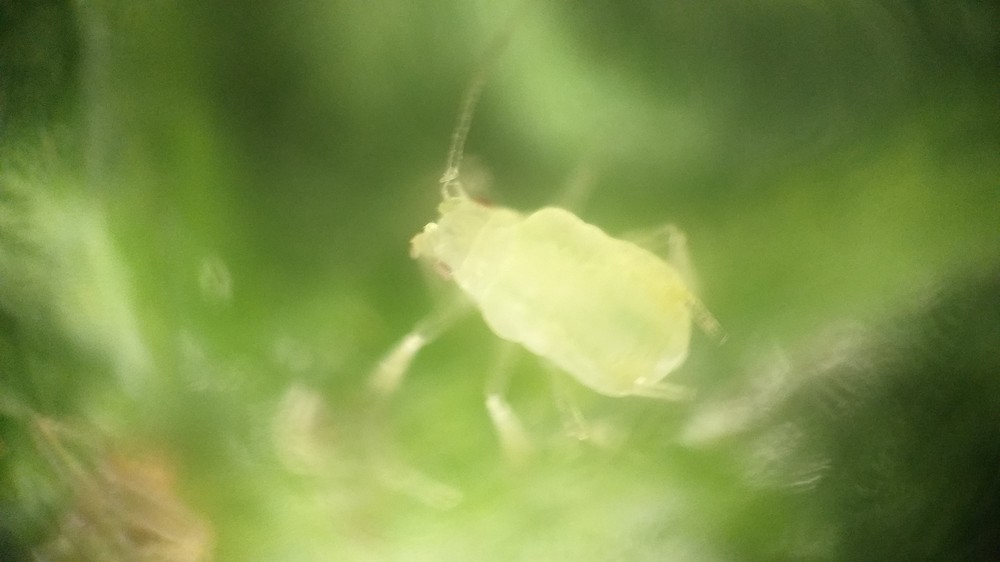Pulgon: (342, 68, 786, 459)
